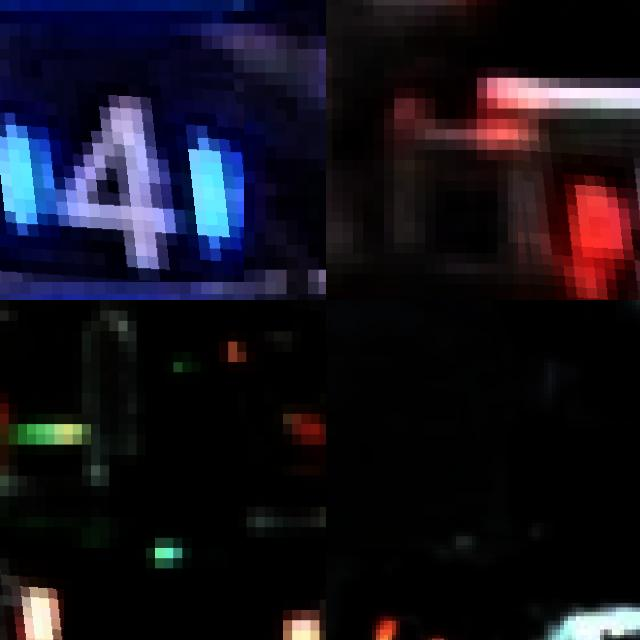B4: (0, 60, 244, 281)
R5: (512, 134, 640, 300)
Rs: (0, 558, 63, 640), (368, 607, 452, 640)
